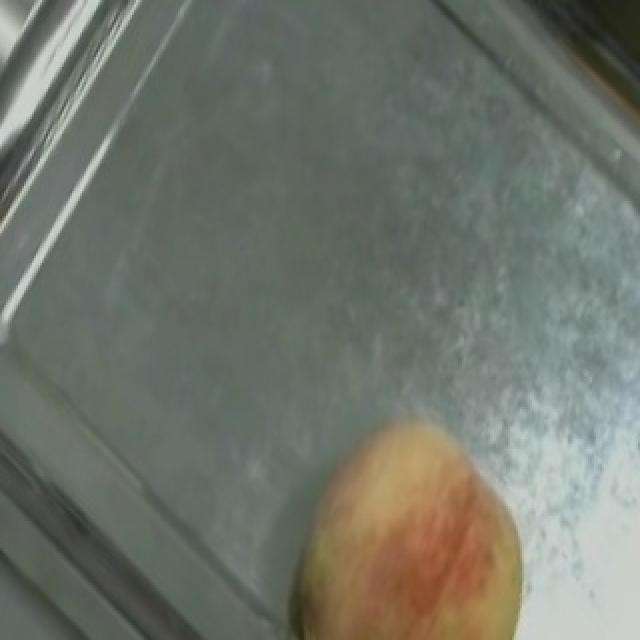Fruit: (250, 379, 552, 640)
